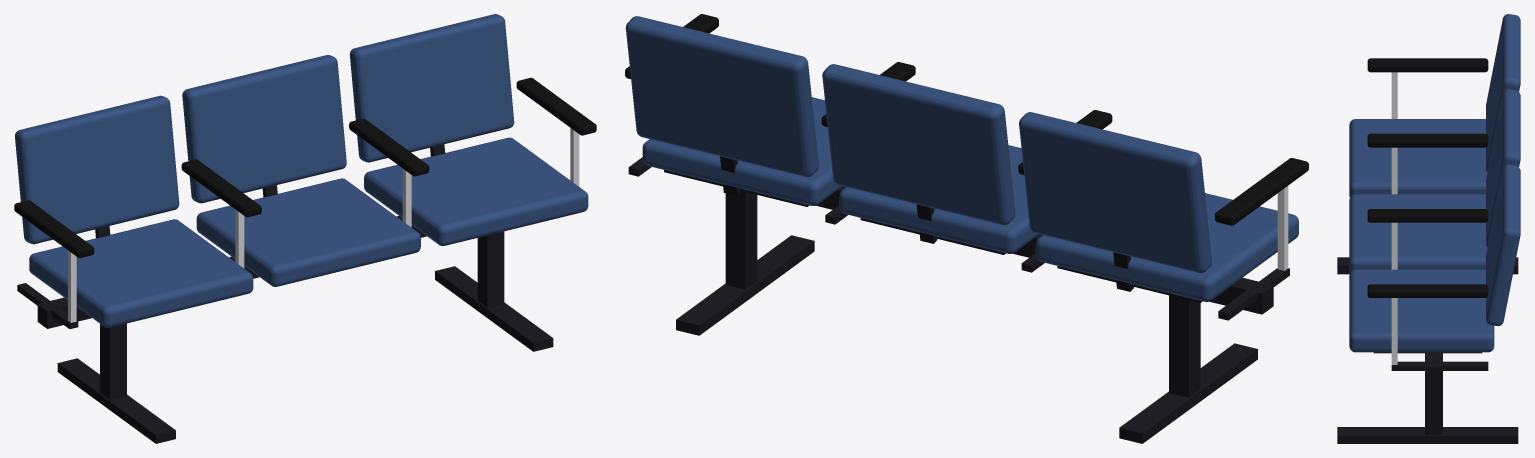
File: 099_waiting_area_beam_seating_3_seat.glb
3 renders of one model, left to right at view 1: azimuth 30°, elevation 25°; view 2: azimuth 150°, elevation 25°; view 3: azimuth 270°, elevation 25°, orthographic. The views are drawn at different scales.
Parts seen in each view (by area): view 1: 024_back, 028_back, 032_back, 026_seat, 030_seat, 022_seat, 006_t_leg_foot, 002_t_leg_foot, 005_t_leg_column, 001_t_leg_column, 014_arm_pad, 017_arm_pad (+5 smaller); view 2: 028_back, 032_back, 024_back, 022_seat, 026_seat, 030_seat, 002_t_leg_foot, 006_t_leg_foot, 005_t_leg_column, 001_t_leg_column, 011_arm_pad, 000_steel_beam (+2 smaller); view 3: 030_seat, 022_seat, 026_seat, 032_back, 006_t_leg_foot, 028_back, 024_back, 011_arm_pad, 014_arm_pad, 017_arm_pad, 020_arm_pad, 005_t_leg_column (+8 smaller).
Boxes of the visible parts, x1,y1,x2,y2 form: 024_back: [15, 95, 179, 244]; 028_back: [182, 55, 346, 203]; 032_back: [349, 14, 514, 162]; 026_seat: [196, 178, 420, 286]; 030_seat: [364, 137, 588, 246]; 022_seat: [29, 219, 253, 327]; 006_t_leg_foot: [435, 266, 553, 351]; 002_t_leg_foot: [57, 358, 175, 443]; 005_t_leg_column: [477, 231, 504, 307]; 001_t_leg_column: [100, 323, 126, 399]; 014_arm_pad: [181, 159, 261, 217]; 017_arm_pad: [349, 118, 429, 176]; 028_back: [822, 64, 1015, 225]; 032_back: [625, 16, 818, 177]; 024_back: [1019, 112, 1211, 273]; 022_seat: [1035, 193, 1298, 301]; 026_seat: [839, 145, 1039, 253]; 030_seat: [642, 97, 842, 205]; 002_t_leg_foot: [1119, 343, 1257, 443]; 006_t_leg_foot: [676, 235, 814, 335]; 005_t_leg_column: [725, 191, 757, 289]; 001_t_leg_column: [1169, 295, 1200, 397]; 011_arm_pad: [1215, 158, 1308, 225]; 000_steel_beam: [816, 186, 1273, 314]; 030_seat: [1349, 269, 1494, 352]; 022_seat: [1349, 119, 1487, 197]; 026_seat: [1349, 194, 1487, 272]; 032_back: [1486, 164, 1520, 326]; 006_t_leg_foot: [1337, 427, 1518, 443]; 028_back: [1486, 89, 1520, 247]; 024_back: [1486, 14, 1520, 172]; 011_arm_pad: [1367, 58, 1488, 72]; 014_arm_pad: [1367, 133, 1488, 147]; 017_arm_pad: [1367, 209, 1488, 222]; 020_arm_pad: [1367, 284, 1488, 297]; 005_t_leg_column: [1425, 384, 1442, 434].
Size of the model in its own units: 1.83 by 0.8538 by 0.6073.
